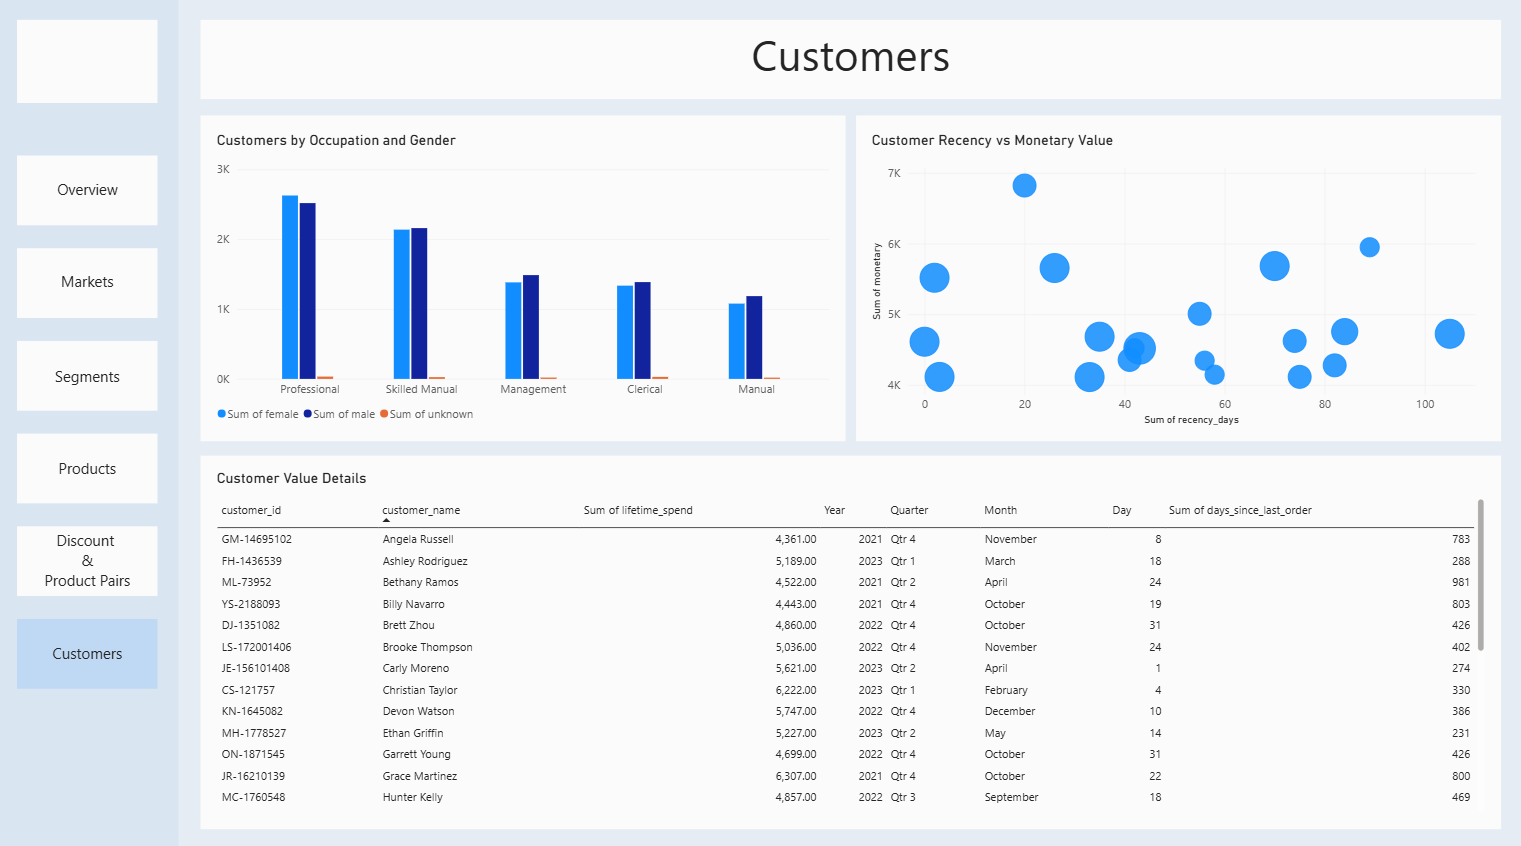

The dashboard page shown, as its layout file describes it:
{"tool":"powerbi","page":{"name":"Customers","canvas":[1920,1080],"ordinal":5},"visuals":[{"type":"clusteredColumnChart","title":"Customers by Occupation and Gender","fields":{"Category":["q04_customers_by_gender_occupation.occupation"],"Y":["Sum(q04_customers_by_gender_occupation.female)","Sum(q04_customers_by_gender_occupation.male)","Sum(q04_customers_by_gender_occupation.unknown)"]},"box":[261.5,157.2,801.3,399.1],"z":0},{"type":"scatterChart","title":"Customer Recency vs Monetary Value","fields":{"Category":["q14_customer_rfm_segments.customer_id"],"Size":["Sum(q14_customer_rfm_segments.frequency)"],"X":["Sum(q14_customer_rfm_segments.recency_days)"],"Y":["Sum(q14_customer_rfm_segments.monetary)"]},"box":[1084,157.2,801.3,399.1],"z":1000},{"type":"tableEx","title":"Customer Value Details","fields":{"Values":["q08_vip_churn_risk.customer_id","q08_vip_churn_risk.customer_name","Sum(q08_vip_churn_risk.lifetime_spend)","q08_vip_churn_risk.last_order_date.Variation.Date Hierarchy.Year","q08_vip_churn_risk.last_order_date.Variation.Date Hierarchy.Quarter","q08_vip_churn_risk.last_order_date.Variation.Date Hierarchy.Month","q08_vip_churn_risk.last_order_date.Variation.Date Hierarchy.Day","Sum(q08_vip_churn_risk.days_since_last_order)"]},"box":[261.5,582,1623.7,459.6],"z":2000},{"type":"textbox","box":[258.6,37.1,1630,90],"z":3000},{"type":"textbox","box":[27.1,231.4,174.3,55.7],"z":4000},{"type":"textbox","box":[27.1,347.1,174.3,57.1],"z":5000},{"type":"textbox","box":[27.1,465.7,174.3,55.7],"z":6000},{"type":"textbox","box":[27.1,581.4,174.3,55.7],"z":7000},{"type":"textbox","box":[27.1,671.4,174.3,81.4],"z":8000},{"type":"textbox","box":[27.1,814.3,174.3,55.7],"z":9000},{"type":"actionButton","box":[27.1,204.3,174.3,82.9],"z":9001},{"type":"actionButton","box":[27.1,321.4,174.3,82.9],"z":9002},{"type":"actionButton","box":[27.1,438.6,174.3,82.9],"z":9003},{"type":"actionButton","box":[27.1,554.3,174.3,82.9],"z":9004},{"type":"actionButton","box":[27.1,671.4,174.3,82.9],"z":9005},{"type":"actionButton","box":[27.1,787.1,174.3,82.9],"z":9006}]}

Visuals, with their boxes on the page's 1920x1080 design canvas (x1, y1, x2, y2). These are canvas units, not pixel positions in the 1521x846 screenshot, which may show the page scaled, cropped or inside an application window:
"Customers by Occupation and Gender" clusteredColumnChart: BBox(262, 157, 1063, 556)
"Customer Recency vs Monetary Value" scatterChart: BBox(1084, 157, 1885, 556)
"Customer Value Details" tableEx: BBox(262, 582, 1885, 1042)
textbox: BBox(259, 37, 1889, 127)
textbox: BBox(27, 231, 201, 287)
textbox: BBox(27, 347, 201, 404)
textbox: BBox(27, 466, 201, 521)
textbox: BBox(27, 581, 201, 637)
textbox: BBox(27, 671, 201, 753)
textbox: BBox(27, 814, 201, 870)
actionButton: BBox(27, 204, 201, 287)
actionButton: BBox(27, 321, 201, 404)
actionButton: BBox(27, 439, 201, 522)
actionButton: BBox(27, 554, 201, 637)
actionButton: BBox(27, 671, 201, 754)
actionButton: BBox(27, 787, 201, 870)
